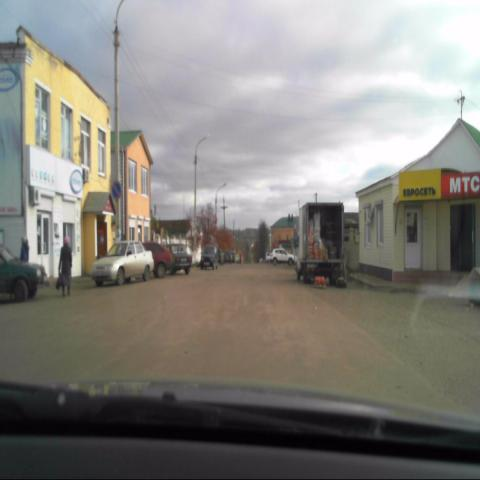3_28: (110, 180, 121, 200)
